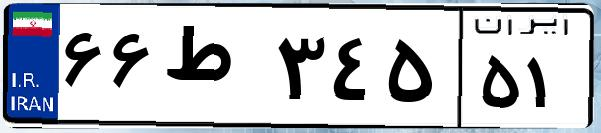1: (525, 38, 570, 115)
3: (270, 28, 330, 110)
4: (330, 28, 385, 110)
5: (385, 28, 445, 110), (475, 38, 525, 113)
6: (57, 26, 110, 100), (110, 28, 158, 98)
ط: (158, 20, 270, 120)
